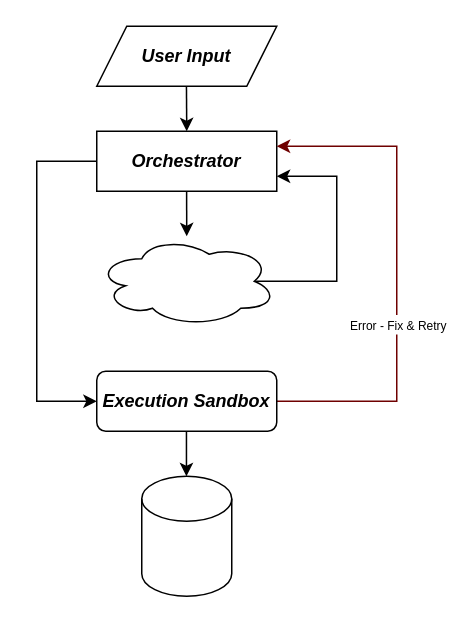
Some shapes in this 471 by 623 pixel diagram are drawn without their labels. Here are the shapes that lost their labels. From the top down, the centre of each, then its label:
At [186,280]: "Groq API".
At [186,535]: "Local Storage".
